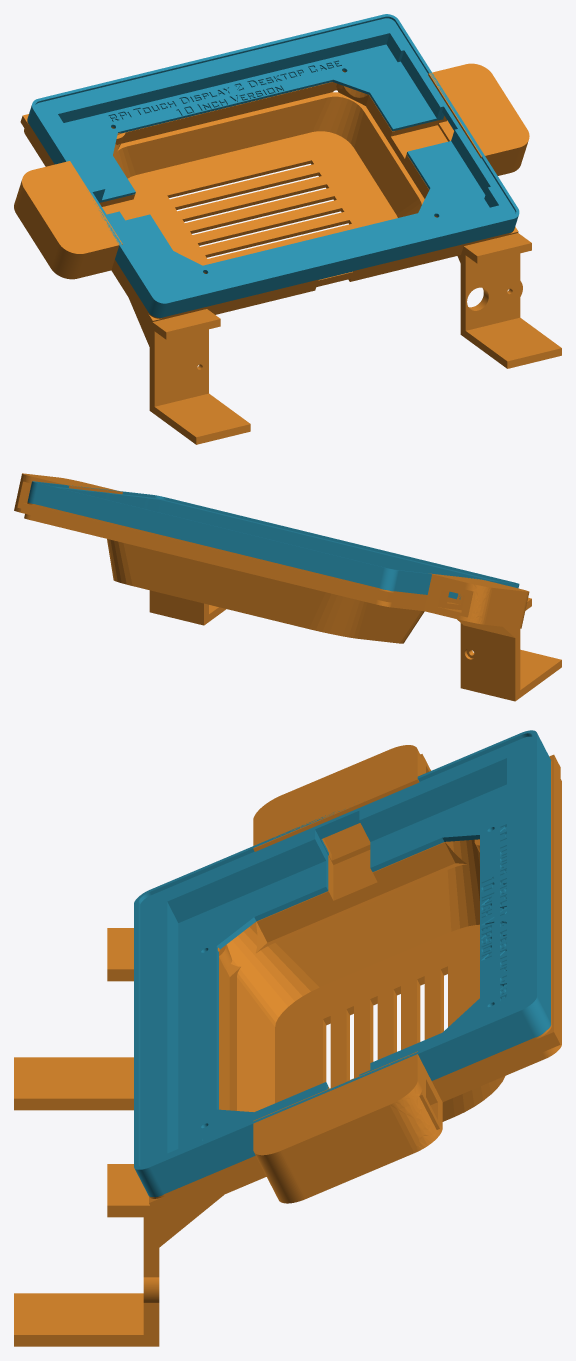
The model's file is piflex-codex-v34-coloured-inspection.glb.
3 renders of one model, top to bottom at view 1: azimuth 30°, elevation 25°; view 2: azimuth 150°, elevation 25°; view 3: azimuth 270°, elevation 25°, orthographic. The views are drawn at different scales.
Parts seen in each view (by area): view 1: V34 rear enclosure and mount, V34 blue screen shell; view 2: V34 rear enclosure and mount, V34 blue screen shell; view 3: V34 rear enclosure and mount, V34 blue screen shell.
Part boxes in pixels (x1=…): V34 rear enclosure and mount: x1=14, y1=63, x2=561, y2=444; V34 blue screen shell: x1=27, y1=14, x2=519, y2=317; V34 rear enclosure and mount: x1=14, y1=473, x2=561, y2=701; V34 blue screen shell: x1=27, y1=481, x2=519, y2=599; V34 rear enclosure and mount: x1=14, y1=745, x2=561, y2=1346; V34 blue screen shell: x1=134, y1=730, x2=550, y2=1197.
Size of the model in its own units: 324 by 146 by 211.
